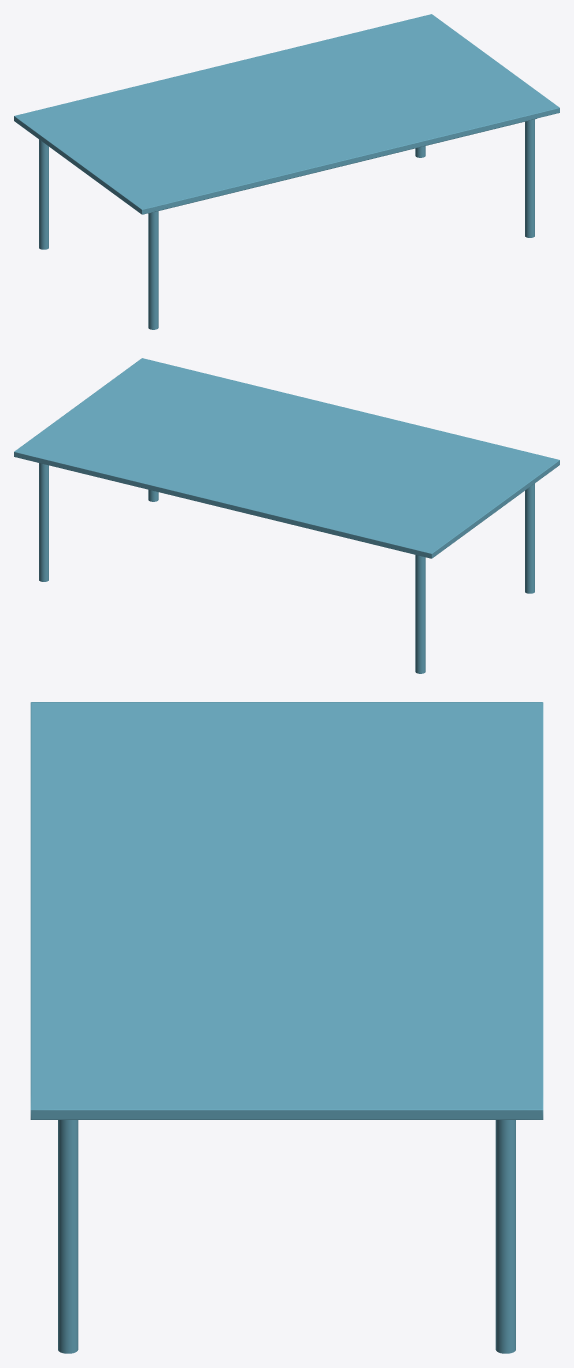
Rendered from test_mtl_table.obj.
3 renders of one model, top to bottom at view 1: azimuth 30°, elevation 25°; view 2: azimuth 150°, elevation 25°; view 3: azimuth 270°, elevation 25°, orthographic. The views are drawn at different scales.
Visible parts, largest first — view 1: Table; view 2: Table; view 3: Table.
Boxes of the visible parts, x1,y1,x2,y2 form: Table: [14, 14, 559, 329]; Table: [14, 358, 559, 673]; Table: [30, 702, 543, 1353].
Bounding box in the file's own units: 200 × 59.41 × 106.
